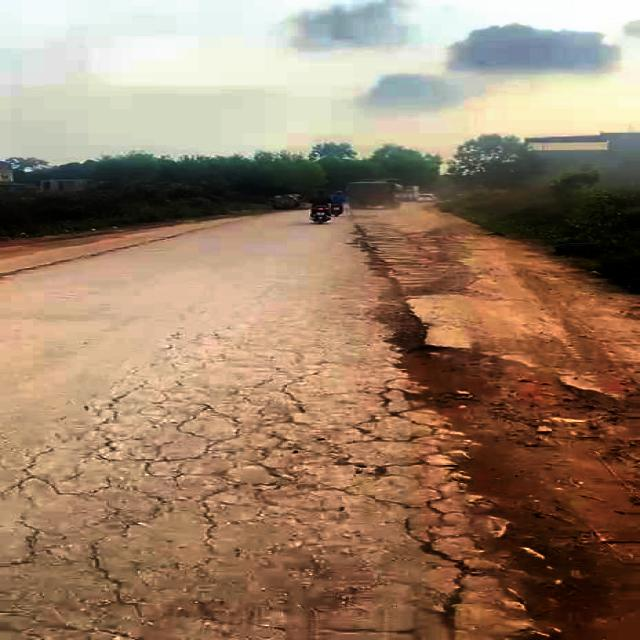pothole: (372, 329, 501, 417)
